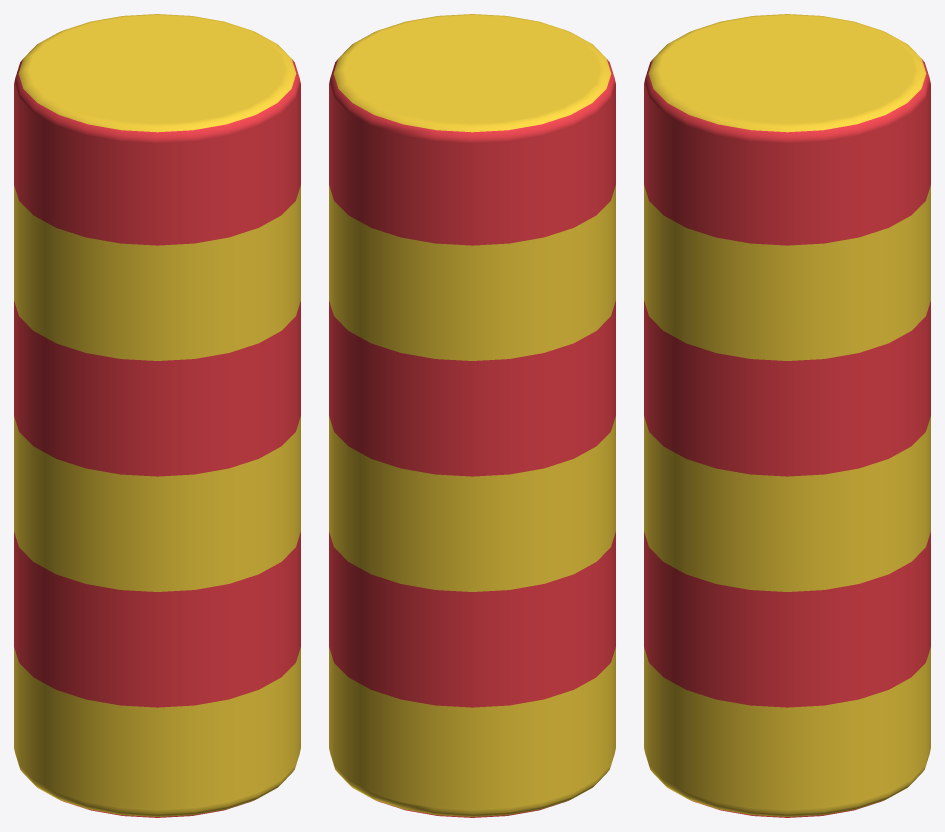
Rendered from pillar_1.glb.
3 views of the same model, side by side, from view 1: azimuth 30°, elevation 25°; view 2: azimuth 150°, elevation 25°; view 3: azimuth 270°, elevation 25° (orthographic).
Visible parts, largest first — view 1: Pillar1; view 2: Pillar1; view 3: Pillar1.
Part boxes in pixels (bbox=[...]): Pillar1: bbox=[14, 14, 300, 817]; Pillar1: bbox=[329, 14, 615, 817]; Pillar1: bbox=[644, 14, 930, 817].
Size of the model in its own units: 1.5 by 4 by 1.5.
Materials: 1 (1 with a texture image).
